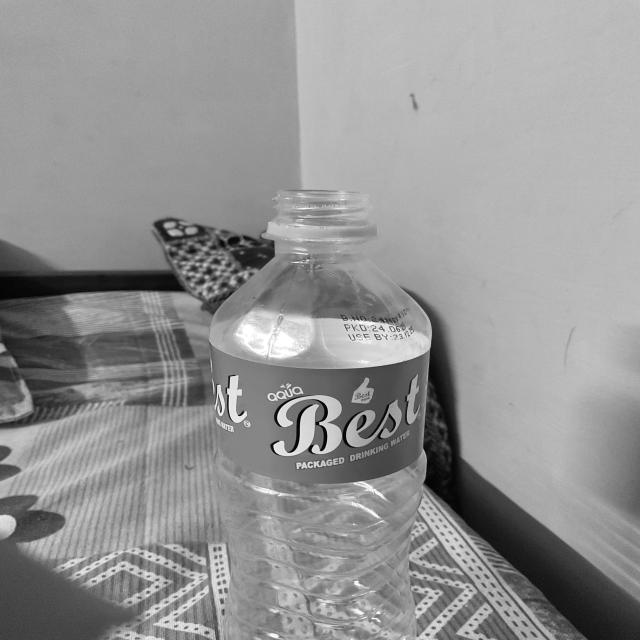open-cap: (264, 184, 380, 242)
